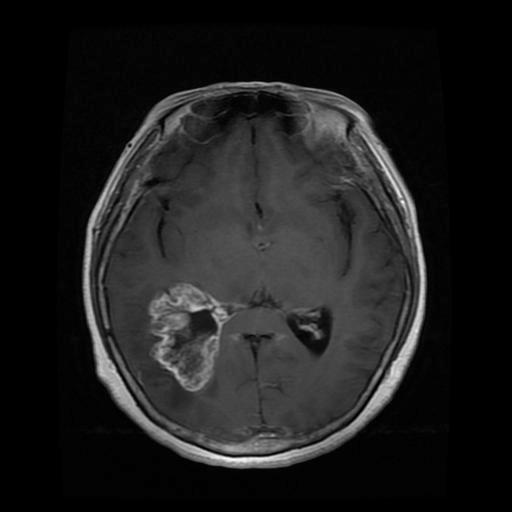Tumour-Glioma: (140, 280, 237, 391)
